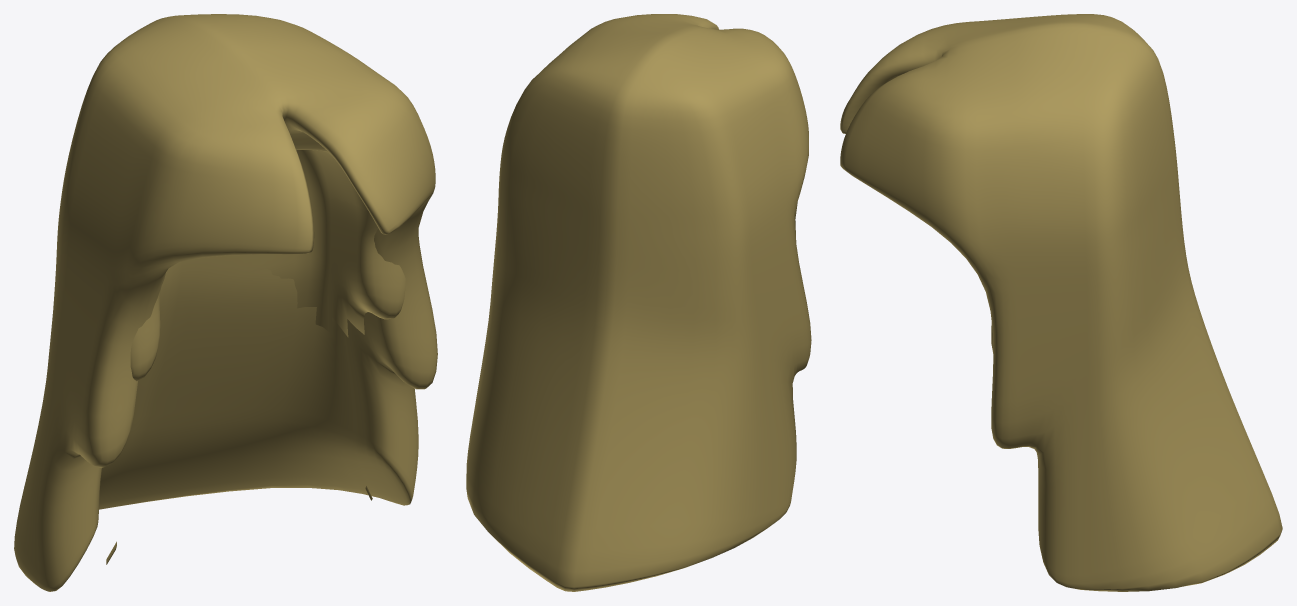
Rendered from Female Long Hair (Jumper & Shirt).fbx.
The picture shows the model from 3 angles, left to right: view 1: azimuth 30°, elevation 25°; view 2: azimuth 150°, elevation 25°; view 3: azimuth 270°, elevation 25°; orthographic projection. The views are drawn at different scales.
Visible parts, largest first — view 1: Female_Hair_Long_Shirt_Smooth, Female_Hair_Long_Jumper_Smooth; view 2: Female_Hair_Long_Shirt_Smooth, Female_Hair_Long_Jumper_Smooth; view 3: Female_Hair_Long_Shirt_Smooth, Female_Hair_Long_Jumper_Smooth.
Part boxes in pixels (x1=…): Female_Hair_Long_Shirt_Smooth: x1=14, y1=14, x2=437, y2=591; Female_Hair_Long_Jumper_Smooth: x1=106, y1=196, x2=405, y2=564; Female_Hair_Long_Shirt_Smooth: x1=466, y1=14, x2=811, y2=591; Female_Hair_Long_Jumper_Smooth: x1=587, y1=210, x2=608, y2=326; Female_Hair_Long_Shirt_Smooth: x1=840, y1=14, x2=1282, y2=591; Female_Hair_Long_Jumper_Smooth: x1=991, y1=162, x2=1191, y2=353.
Bounding box in the file's own units: 1.99 × 2.94 × 2.28.
